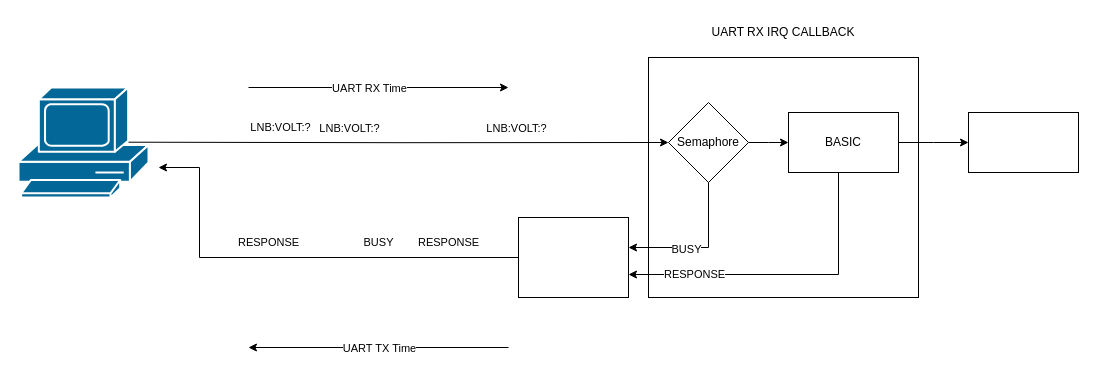
The diagram is 1096 pixels wide and 373 high, and some of its shapes have lost their labels. Here are the shapes that lost their labels. From the top down, the box of each, then its label:
(968, 112, 1078, 172): helper functions and globals
(518, 216, 628, 298): UART TX DMA
